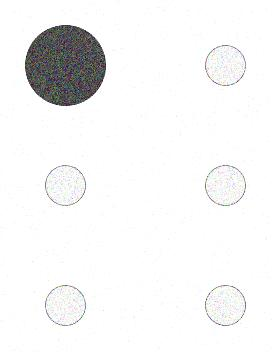A: (22, 20, 250, 333)
